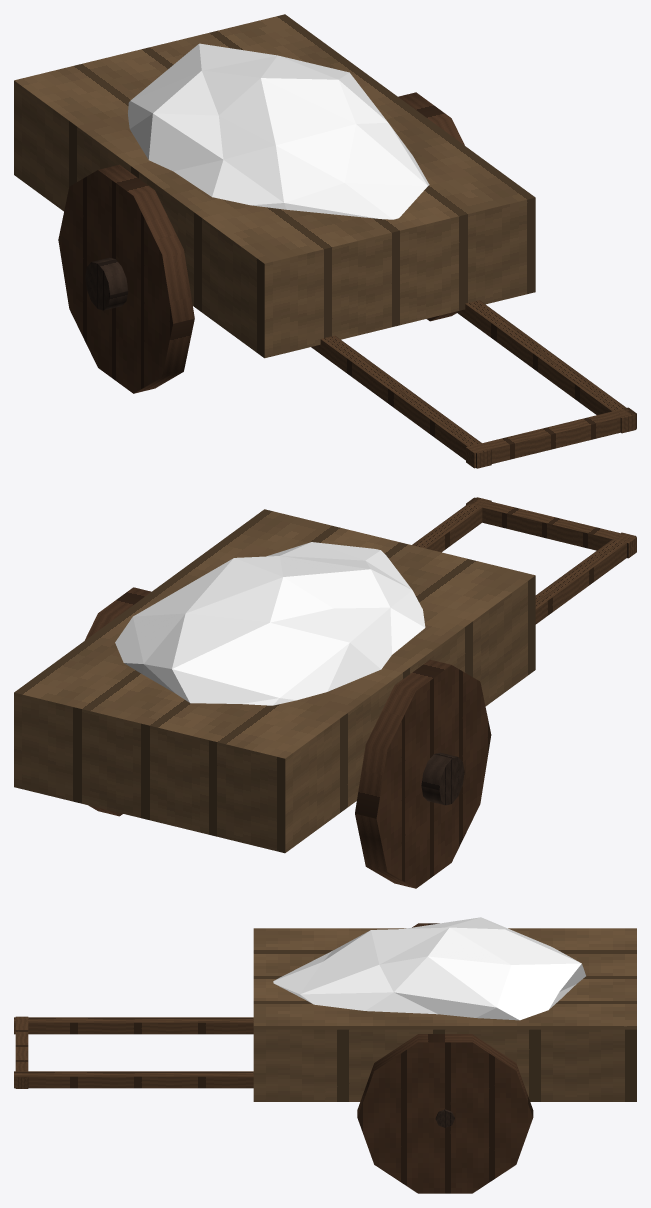
Rendered from carreta.glb.
The picture shows the model from 3 angles, top to bottom: view 1: azimuth 30°, elevation 25°; view 2: azimuth 150°, elevation 25°; view 3: azimuth 270°, elevation 25°; orthographic projection. The views are drawn at different scales.
Visible parts, largest first — view 1: carreta; view 2: carreta; view 3: carreta.
Boxes of the visible parts, x1,y1,x2,y2 form: carreta: (14, 14, 636, 468); carreta: (14, 497, 636, 888); carreta: (14, 917, 636, 1193).
Bounding box in the file's own units: 1.88 × 1.4 × 3.9.
Materials: 5 (4 with a texture image).
